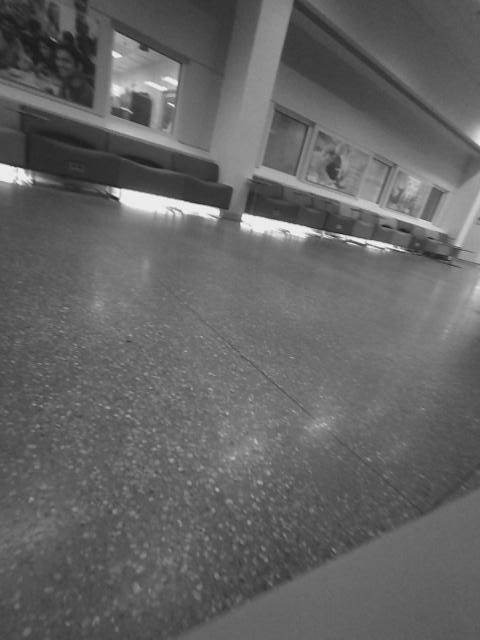ball: (87, 277, 141, 327)
